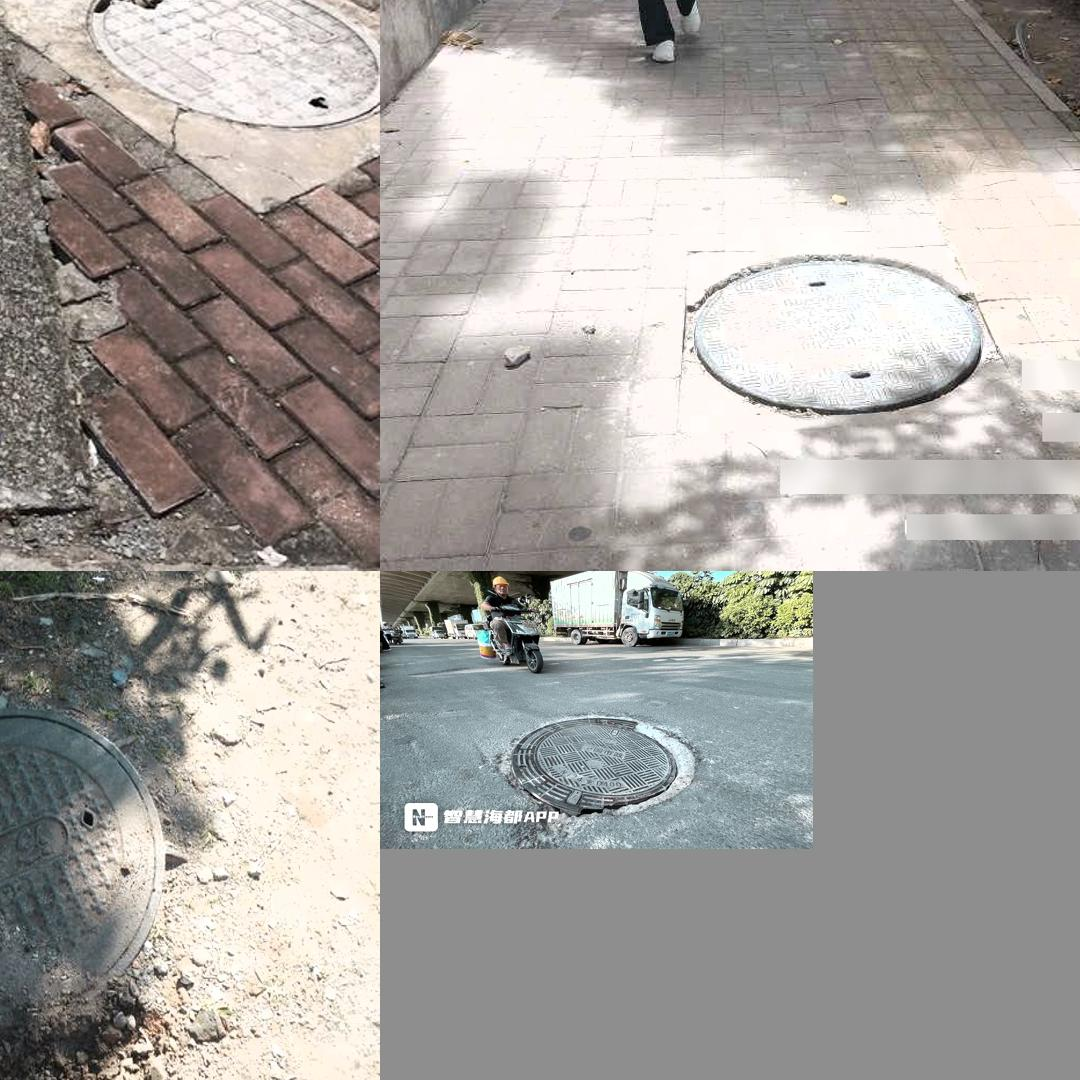circle: (0, 698, 240, 1067), (0, 0, 108, 514), (685, 253, 990, 419), (475, 701, 727, 828)
